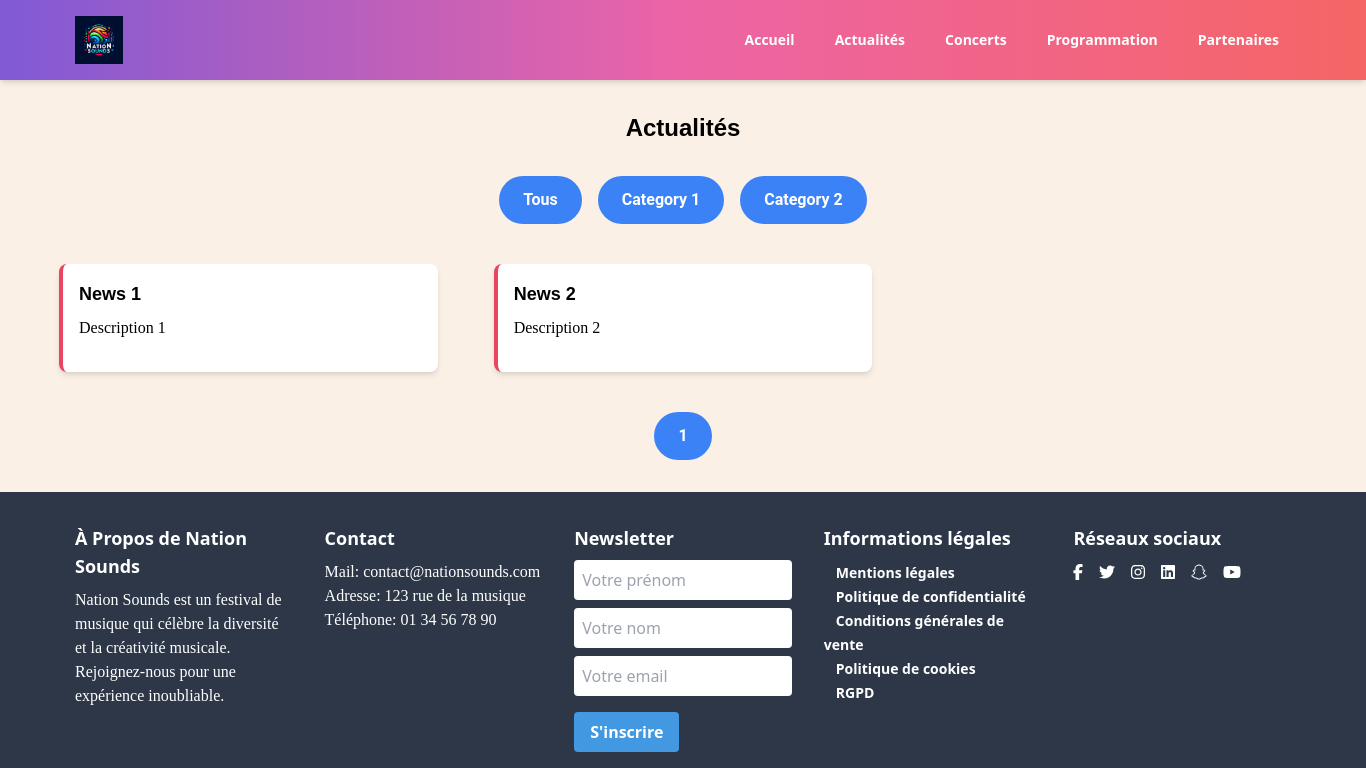
NewsPage › filters news based on selected category
Expected: the heading "News 1" is shown, [79, 284, 141, 304]
Click the button "Category 1" at [661, 200], box [598, 176, 724, 224]
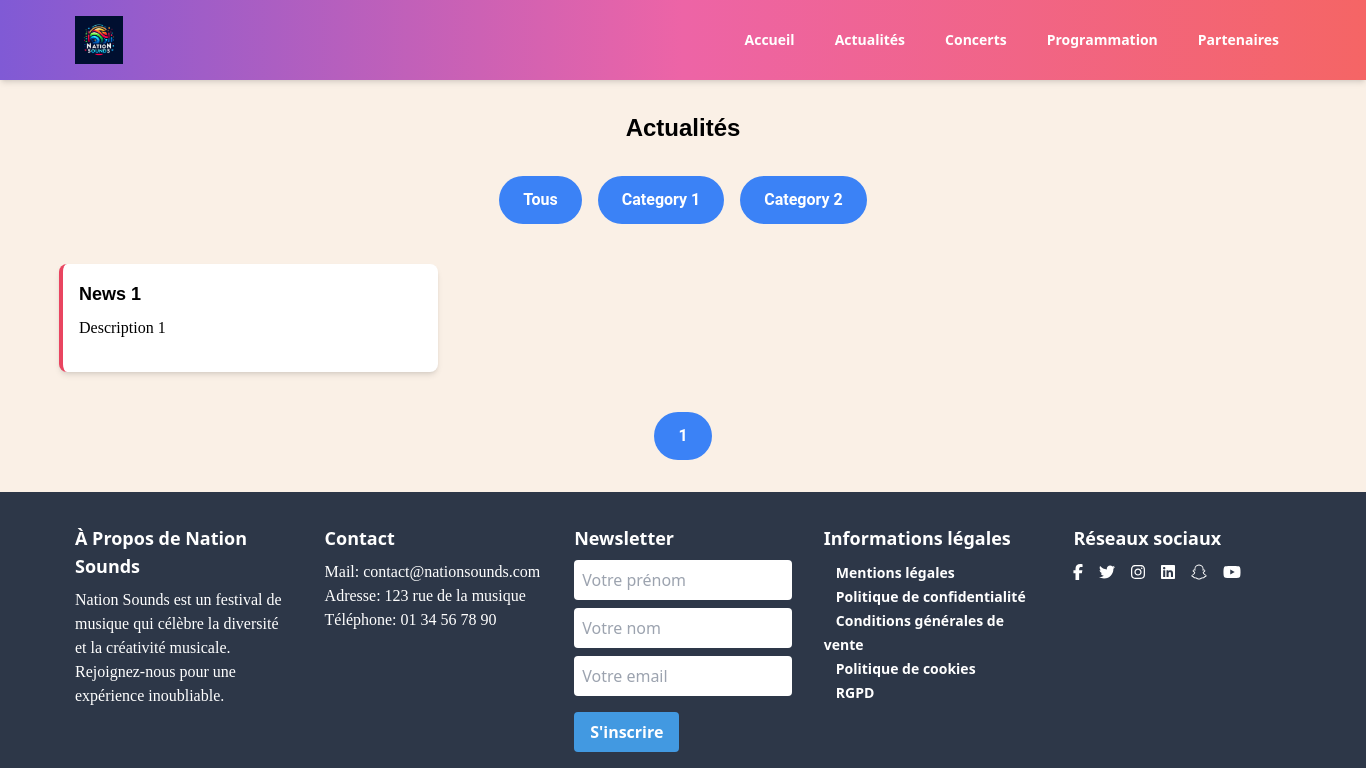
Expected: the heading "News 1" is shown, [79, 284, 141, 304]
Expected: the heading "News 2" is gone
